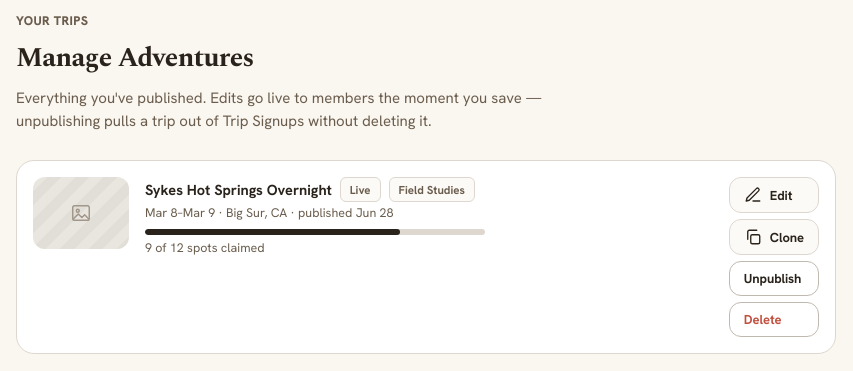
Manage Adventures › flips a trip between Live and Unpublished from the row action
Check: the text "Sykes Hot Springs Overnight" is shown, box [145,180,332,199]
Check: the text "Live" is shown, box [340,177,381,202]
Step 1. Click the button "Unpublish" → (774, 278), box [729,261,819,296]
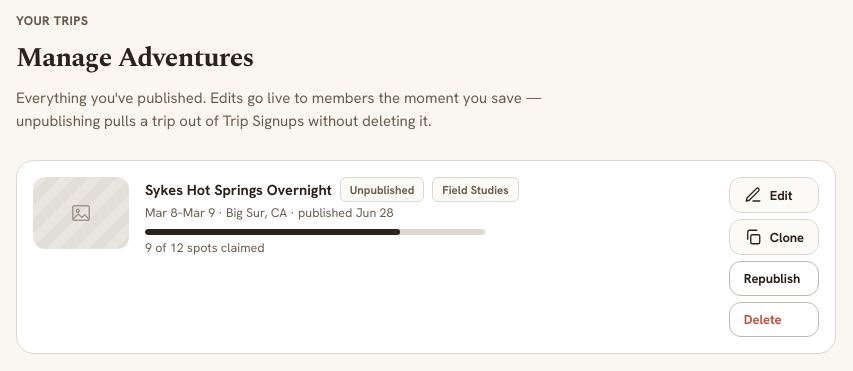
Check: the text "Unpublished" is shown, box [340,177,424,202]
Check: the button "Republish" is shown
Step 2. Click the button "Republish" → (774, 278), box [729,261,819,296]
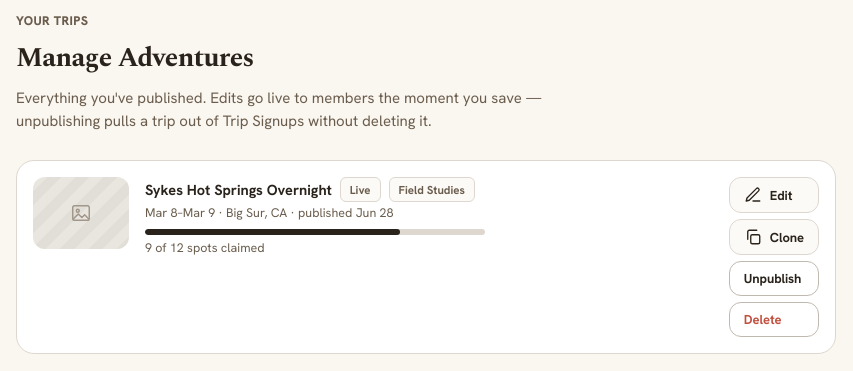
Check: the text "Live" is shown, box [340,177,381,202]
Check: the text "Unpublished" is gone
